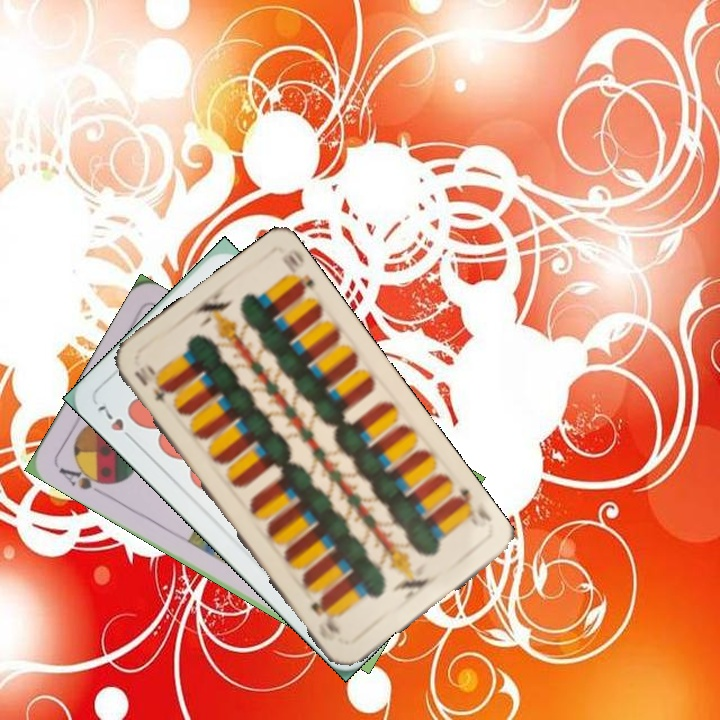E10: (447, 484, 494, 525), (130, 366, 171, 405)
H7: (93, 399, 139, 446)
SA: (54, 460, 113, 499)
